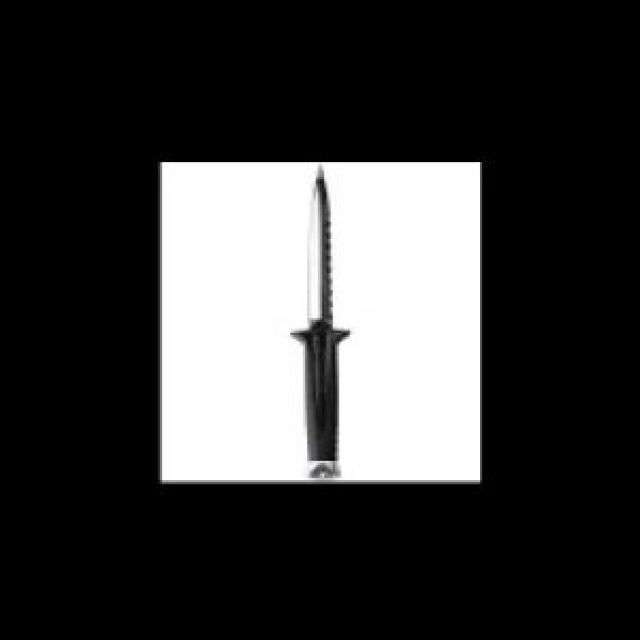knife: (286, 162, 353, 489)
